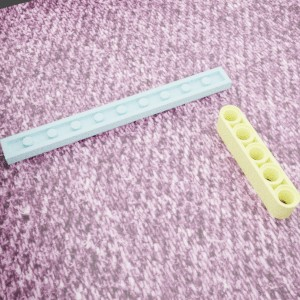lego: (0, 66, 231, 164), (216, 105, 300, 219)
